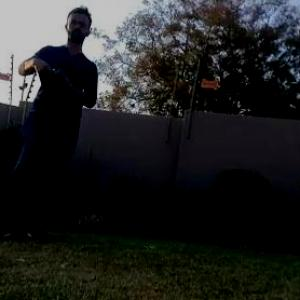follow: (0, 0, 104, 248)
